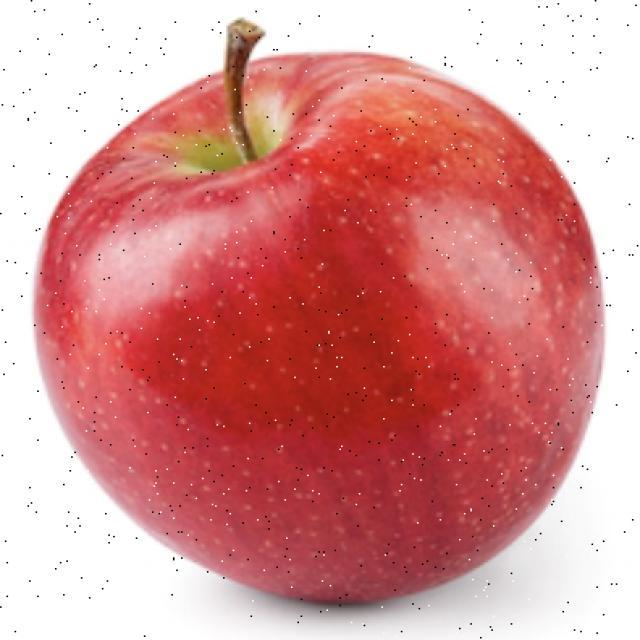Fresh Apple: (72, 60, 590, 590)
